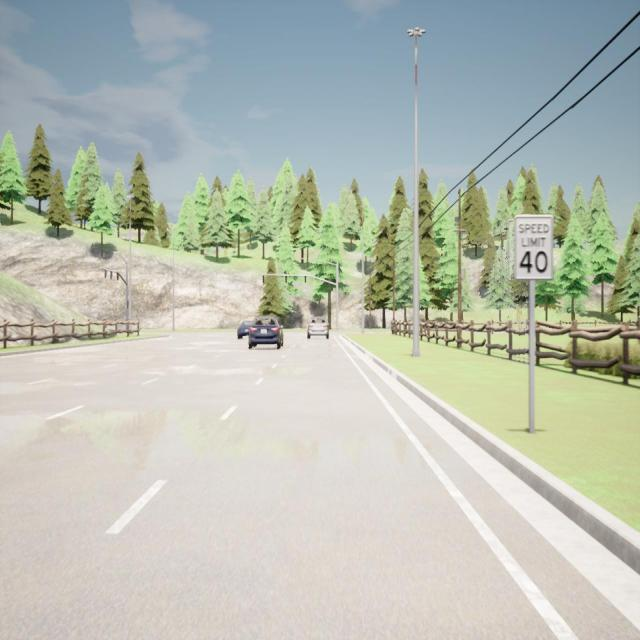Traffic_Signs: (515, 215, 553, 279)
Vehicle: (248, 316, 283, 349), (307, 317, 329, 340), (237, 319, 254, 340)
traffic_light: (104, 270, 107, 278), (110, 272, 112, 280), (117, 272, 119, 280), (262, 275, 264, 282), (285, 276, 287, 283), (304, 276, 306, 283), (126, 301, 128, 308)
